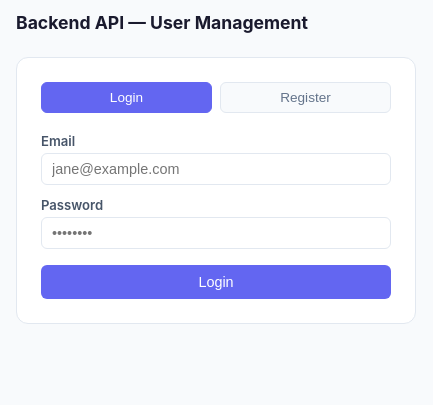
BackendPage — unauthenticated › shows name field only in register mode
This screenshot has width=433, height=405.
Check: the field with placeholder "Jane Doe" is not shown
Click the button "Register": click(306, 98) x1=220 y1=82 x2=391 y2=113
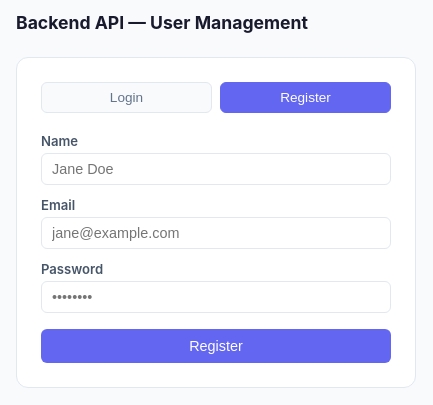
Check: the field with placeholder "Jane Doe" is shown, box x1=41 y1=153 x2=391 y2=185
